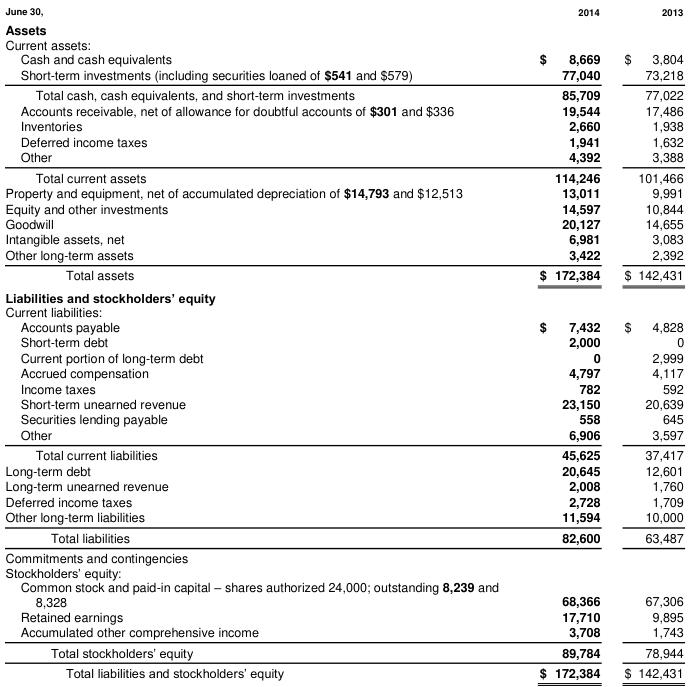table: (4, 4, 683, 680)
table column: (4, 4, 518, 680), (518, 4, 611, 680), (611, 4, 683, 680)
table column header: (4, 4, 683, 19)
table projected row header: (4, 547, 683, 565), (4, 19, 683, 36), (4, 286, 683, 303), (4, 36, 683, 51), (4, 303, 683, 318), (4, 565, 683, 578)
table row: (4, 578, 683, 608), (4, 264, 683, 286), (4, 526, 683, 547), (4, 641, 683, 661), (4, 661, 683, 680), (4, 66, 683, 84), (4, 84, 683, 102), (4, 148, 683, 166), (4, 166, 683, 184), (4, 246, 683, 264), (4, 426, 683, 444), (4, 444, 683, 462), (4, 508, 683, 526), (4, 547, 683, 565), (4, 623, 683, 641), (4, 19, 683, 36), (4, 286, 683, 303), (4, 117, 683, 133), (4, 199, 683, 215), (4, 230, 683, 246), (4, 348, 683, 364), (4, 379, 683, 395), (4, 410, 683, 426), (4, 477, 683, 493), (4, 4, 683, 19), (4, 36, 683, 51), (4, 51, 683, 66), (4, 102, 683, 117), (4, 133, 683, 148), (4, 184, 683, 199), (4, 215, 683, 230), (4, 303, 683, 318), (4, 318, 683, 333), (4, 333, 683, 348), (4, 364, 683, 379), (4, 395, 683, 410), (4, 462, 683, 477), (4, 493, 683, 508), (4, 608, 683, 623), (4, 565, 683, 578)
